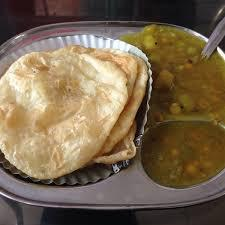Poori: (11, 40, 213, 185)
